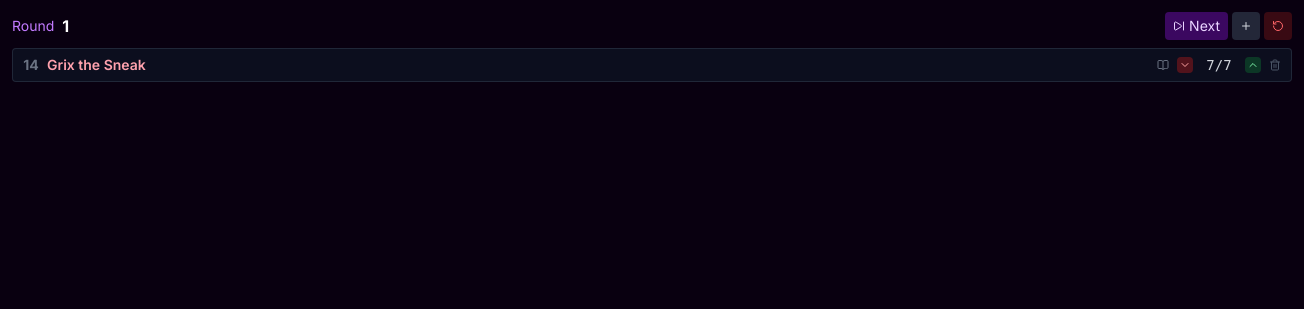
it: InitiativeWidget stat-block panel › resolves a renamed row through its stored monsterName
Click the button named "Show attacks and spells for Grix the Sneak" at (1163, 65), box [1155, 57, 1171, 73]
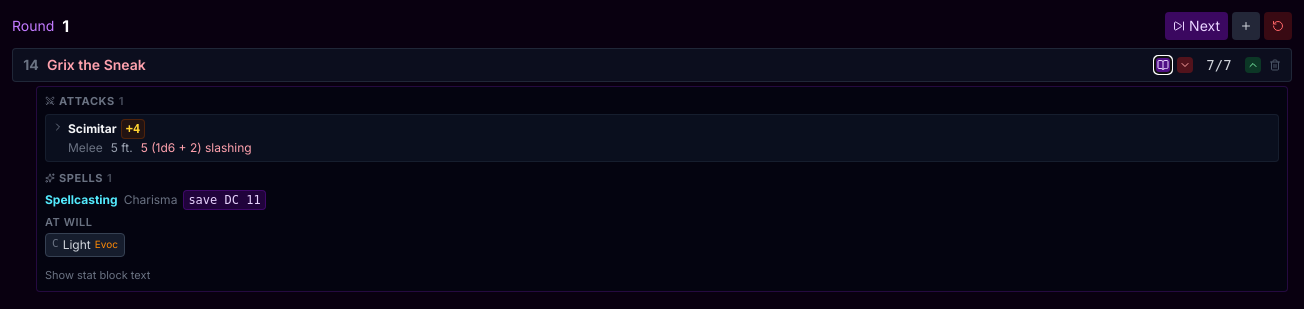
expect the text "5 (1d6 + 2) slashing" is shown: met, box [141, 138, 252, 156]
